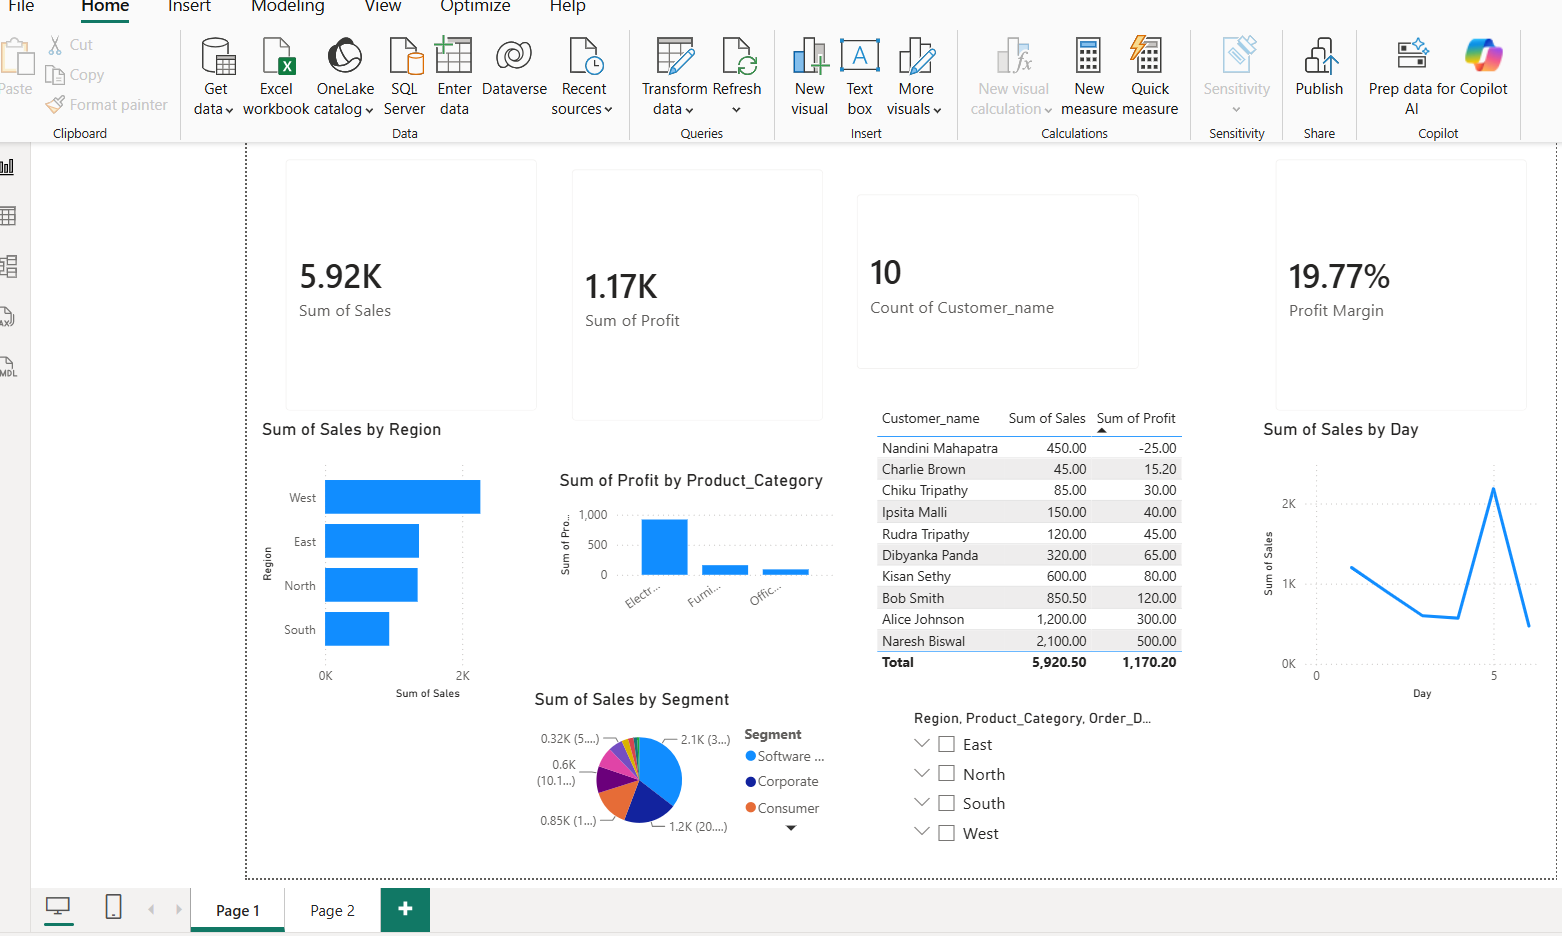

Layout of this report page (visuals, bound fields, positions):
{"tool":"powerbi","page":{"name":"Page 1","canvas":[1280,720],"ordinal":0},"visuals":[{"type":"cardVisual","fields":{"Data":["Sum(orders_data.Sales)"]},"box":[10,0,280,280],"z":0},{"type":"cardVisual","fields":{"Data":["Sum(orders_data.Profit)"]},"box":[300.2,9.4,280,280],"z":1000},{"type":"cardVisual","fields":{"Data":["Count(orders_data.Customer_name)"]},"box":[580.2,33.7,311,206],"z":2000},{"type":"cardVisual","fields":{"Data":["orders_data.Profit Margin"]},"box":[989.5,0,280,280],"z":3000},{"type":"clusteredBarChart","fields":{"Category":["orders_data.Region"],"Y":["Sum(orders_data.Sales)"]},"box":[9.4,270.6,280,280],"z":4000},{"type":"clusteredColumnChart","fields":{"Category":["orders_data.Product_Category"],"Y":["Sum(orders_data.Profit)"]},"box":[300.8,320.4,280,150],"z":5000},{"type":"lineChart","fields":{"Category":["orders_data.Order_Date.Variation.Date Hierarchy.Year","orders_data.Order_Date.Variation.Date Hierarchy.Quarter","orders_data.Order_Date.Variation.Date Hierarchy.Month","orders_data.Order_Date.Variation.Date Hierarchy.Day"],"Y":["Sum(orders_data.Sales)"]},"box":[989.5,270.6,280,280],"z":6000},{"type":"tableEx","fields":{"Values":["orders_data.Customer_name","Sum(orders_data.Sales)","Sum(orders_data.Profit)"]},"box":[609.8,254.4,316.4,280],"z":7000},{"type":"pieChart","fields":{"Category":["orders_data.Segment"],"Y":["Sum(orders_data.Sales)"]},"box":[276.4,534.4,304.3,149.4],"z":8000},{"type":"slicer","fields":{"Values":["orders_data.Region","orders_data.Product_Category","orders_data.Order_Date","orders_data.Segment"]},"box":[639.5,550.6,267,150],"z":9000}]}

Visuals, with their boxes on the page's 1280x720 design canvas (x1, y1, x2, y2). These are canvas units, not pixel positions in the 1562x936 screenshot, which may show the page scaled, cropped or inside an application window:
cardVisual - Sum(orders_data.Sales): BBox(10, 0, 290, 280)
cardVisual - Sum(orders_data.Profit): BBox(300, 9, 580, 289)
cardVisual - Count(orders_data.Customer_name): BBox(580, 34, 891, 240)
cardVisual - orders_data.Profit Margin: BBox(990, 0, 1270, 280)
clusteredBarChart - orders_data.Region x Sum(orders_data.Sales): BBox(9, 271, 289, 551)
clusteredColumnChart - orders_data.Product_Category x Sum(orders_data.Profit): BBox(301, 320, 581, 470)
lineChart - orders_data.Order_Date.Variation.Date Hierarchy.Year x orders_data.Order_Date.Variation.Date Hierarchy.Quarter: BBox(990, 271, 1270, 551)
tableEx - orders_data.Customer_name x Sum(orders_data.Sales): BBox(610, 254, 926, 534)
pieChart - orders_data.Segment x Sum(orders_data.Sales): BBox(276, 534, 581, 684)
slicer - orders_data.Region x orders_data.Product_Category: BBox(640, 551, 906, 701)
